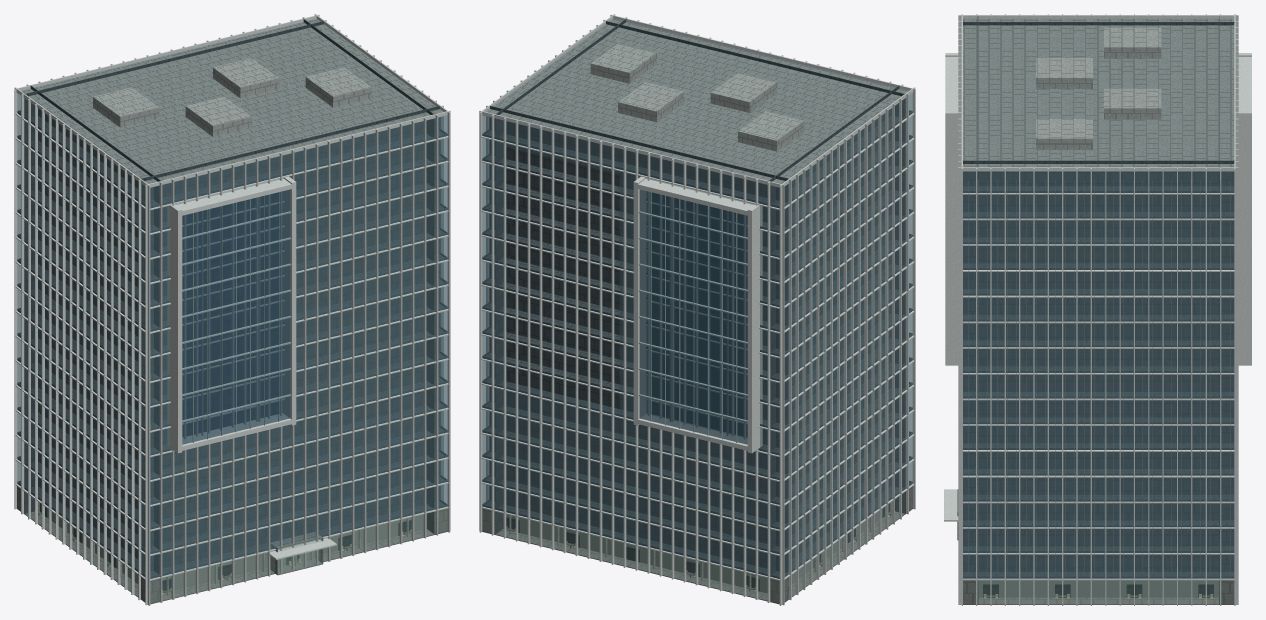
3 views of the same model, side by side, from view 1: azimuth 30°, elevation 25°; view 2: azimuth 150°, elevation 25°; view 3: azimuth 270°, elevation 25° (orthographic). The views are drawn at different scales.
Visible parts, largest first — view 1: Glass_plane__Glazing_office (×4), 03_Columns_and_Frames__Silver facade fins, Glazing_and_grid__Opaque structural core (×4), Scenic_facade_recess__Opaque structural core (×2), Roof, Reflective_feature_glass, Glazing_and_grid__Silver facade fins (×2), Recess_back (×2), Tower_core, 07_Roof__Rooftop plant provisional, Glass_plane__Glazing_clear (×2), 03_Columns_and_Frames__Mullion aluminium (+5 smaller); view 2: 03_Columns_and_Frames__Silver facade fins, Glass_plane__Glazing_office (×4), Glazing_and_grid__Opaque structural core (×4), Scenic_facade_recess__Opaque structural core (×2), Roof, Reflective_feature_glass, Glazing_and_grid__Silver facade fins (×2), Recess_back (×2), Tower_core, 07_Roof__Rooftop plant provisional, Glass_plane__Glazing_clear (×2), 03_Columns_and_Frames__Mullion aluminium (+4 smaller); view 3: Glass_plane__Glazing_office, Tower_core, Roof, 03_Columns_and_Frames__Silver facade fins, Glazing_and_grid__Opaque structural core (×4), Scenic_facade_recess__Opaque structural core (×3), B01__Night_observed lavender facade strips, Glazing_and_grid__Silver facade fins, 07_Roof__Rooftop plant provisional, Glass_plane__Glazing_clear, Recess_back, 07_Roof__Silver facade fins (+3 smaller).
Boxes of the visible parts, left/top/right/bottom form: Glass_plane__Glazing_office (×4): left=17, top=93, right=447, bottom=578; 03_Columns_and_Frames__Silver facade fins: left=14, top=14, right=450, bottom=605; Glazing_and_grid__Opaque structural core (×4): left=17, top=18, right=447, bottom=578; Scenic_facade_recess__Opaque structural core (×2): left=17, top=112, right=447, bottom=578; Roof: left=21, top=18, right=445, bottom=186; Reflective_feature_glass: left=182, top=189, right=290, bottom=444; Glazing_and_grid__Silver facade fins (×2): left=15, top=113, right=448, bottom=580; Recess_back (×2): left=162, top=193, right=426, bottom=590; Tower_core: left=38, top=108, right=138, bottom=558; 07_Roof__Rooftop plant provisional: left=93, top=58, right=371, bottom=136; Glass_plane__Glazing_clear (×2): left=25, top=492, right=447, bottom=602; 03_Columns_and_Frames__Mullion aluminium: left=182, top=192, right=291, bottom=442; 03_Columns_and_Frames__Silver facade fins: left=479, top=14, right=915, bottom=605; Glass_plane__Glazing_office (×4): left=482, top=93, right=912, bottom=578; Glazing_and_grid__Opaque structural core (×4): left=482, top=18, right=912, bottom=578; Scenic_facade_recess__Opaque structural core (×2): left=482, top=114, right=912, bottom=578; Roof: left=484, top=18, right=908, bottom=186; Reflective_feature_glass: left=639, top=189, right=747, bottom=444; Glazing_and_grid__Silver facade fins (×2): left=481, top=113, right=914, bottom=580; Recess_back (×2): left=503, top=193, right=767, bottom=593; Tower_core: left=791, top=108, right=891, bottom=558; 07_Roof__Rooftop plant provisional: left=590, top=43, right=804, bottom=151; Glass_plane__Glazing_clear (×2): left=482, top=492, right=904, bottom=602; 03_Columns_and_Frames__Mullion aluminium: left=638, top=192, right=747, bottom=442; Glass_plane__Glazing_office: left=963, top=172, right=1233, bottom=578; Tower_core: left=978, top=171, right=1218, bottom=571; Roof: left=963, top=18, right=1234, bottom=171; 03_Columns_and_Frames__Silver facade fins: left=945, top=14, right=1251, bottom=605; Glazing_and_grid__Opaque structural core (×4): left=963, top=16, right=1234, bottom=604; Scenic_facade_recess__Opaque structural core (×3): left=963, top=186, right=1234, bottom=576; B01__Night_observed lavender facade strips: left=968, top=180, right=1230, bottom=572; Glazing_and_grid__Silver facade fins: left=963, top=193, right=1234, bottom=580; 07_Roof__Rooftop plant provisional: left=1036, top=27, right=1161, bottom=149; Glass_plane__Glazing_clear: left=978, top=580, right=1218, bottom=603; Recess_back: left=978, top=580, right=1218, bottom=597; 07_Roof__Silver facade fins: left=961, top=15, right=1235, bottom=171.
Size of the model in its own units: 60.55 by 81.16 by 50.8.
Materials: 50 (36 with a texture image).
